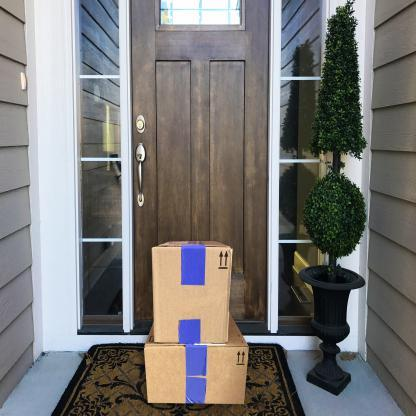package: (148, 236, 236, 348), (143, 339, 251, 407)
